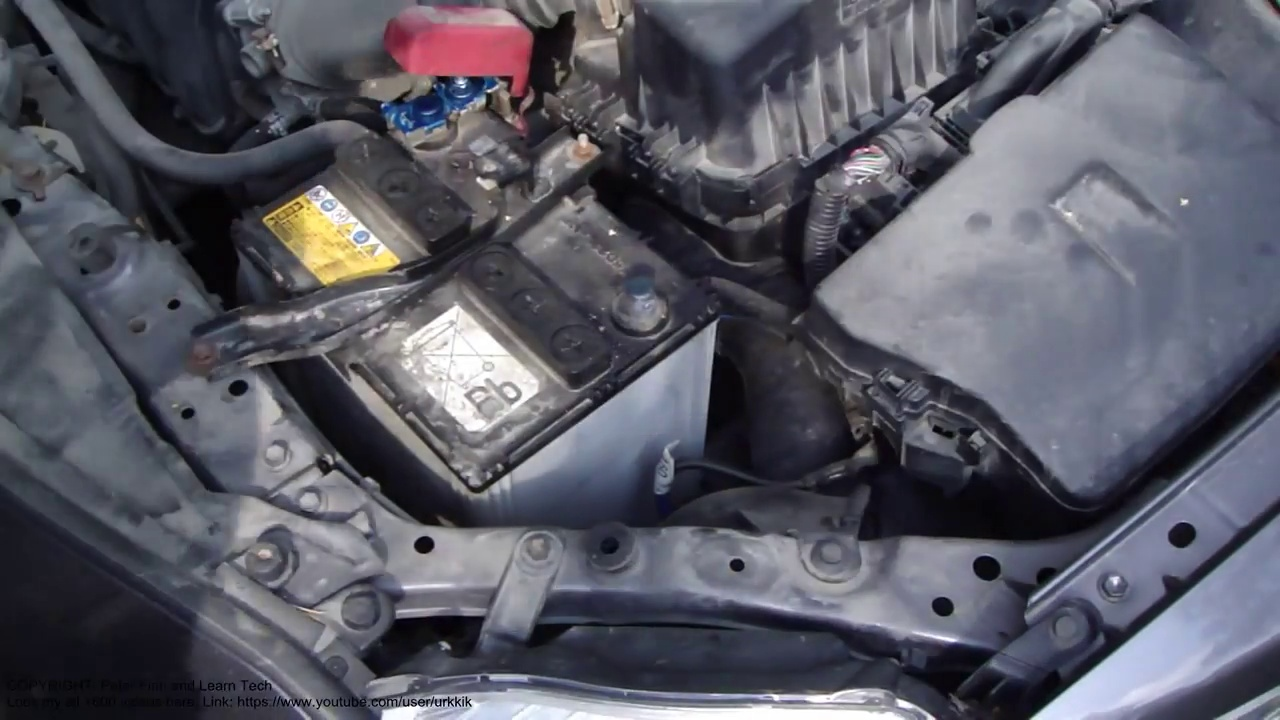battery: (239, 70, 713, 508)
neg_disconnected: (577, 248, 682, 350)
pos_connected: (351, 18, 546, 146)
